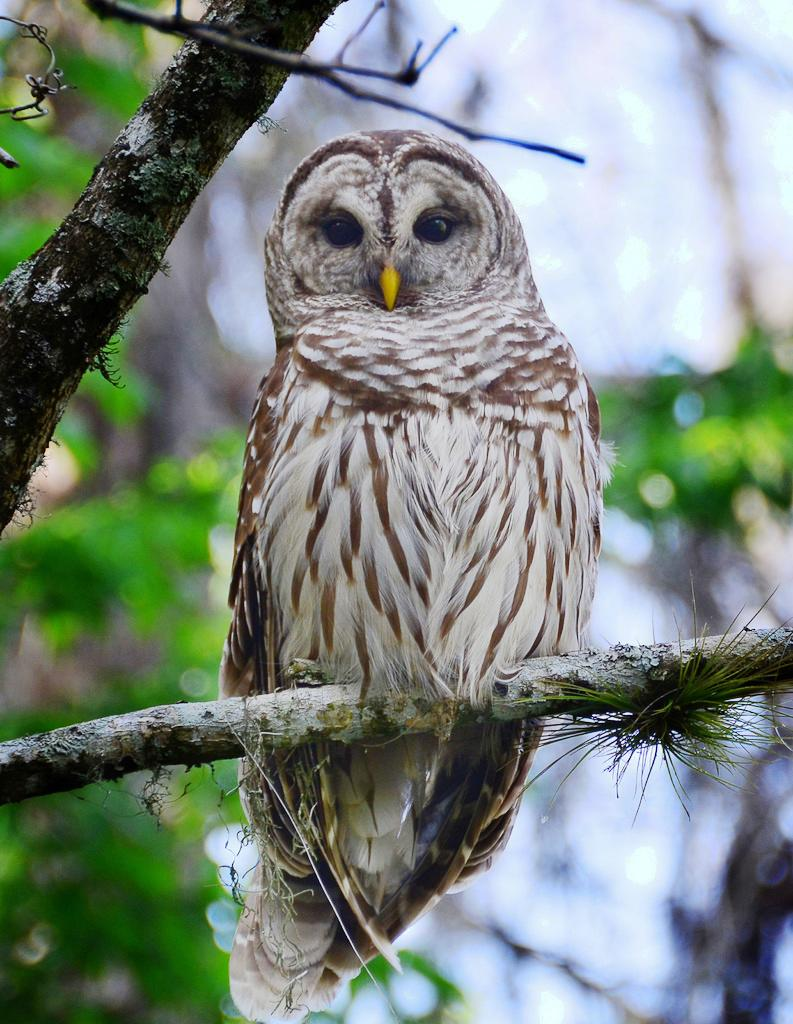Owl: (216, 124, 618, 1024)
